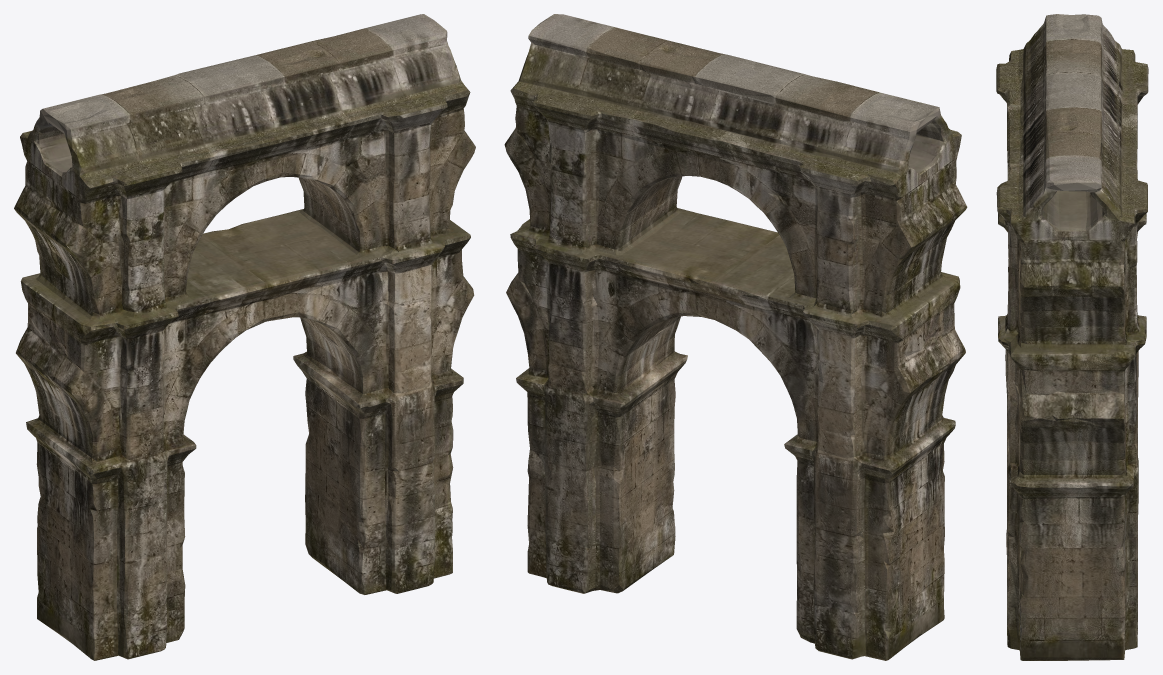
The model's file is aqueduct.glb.
The picture shows the model from 3 angles, left to right: view 1: azimuth 30°, elevation 25°; view 2: azimuth 150°, elevation 25°; view 3: azimuth 270°, elevation 25°; orthographic projection. The views are drawn at different scales.
Visible parts, largest first — view 1: lo; view 2: lo; view 3: lo.
Boxes of the visible parts, x1,y1,x2,y2 form: lo: (14, 14, 475, 660); lo: (504, 14, 967, 660); lo: (996, 14, 1148, 660).
Size of the model in its own units: 5.72 by 7.07 by 2.
1 material, 1 textured.
